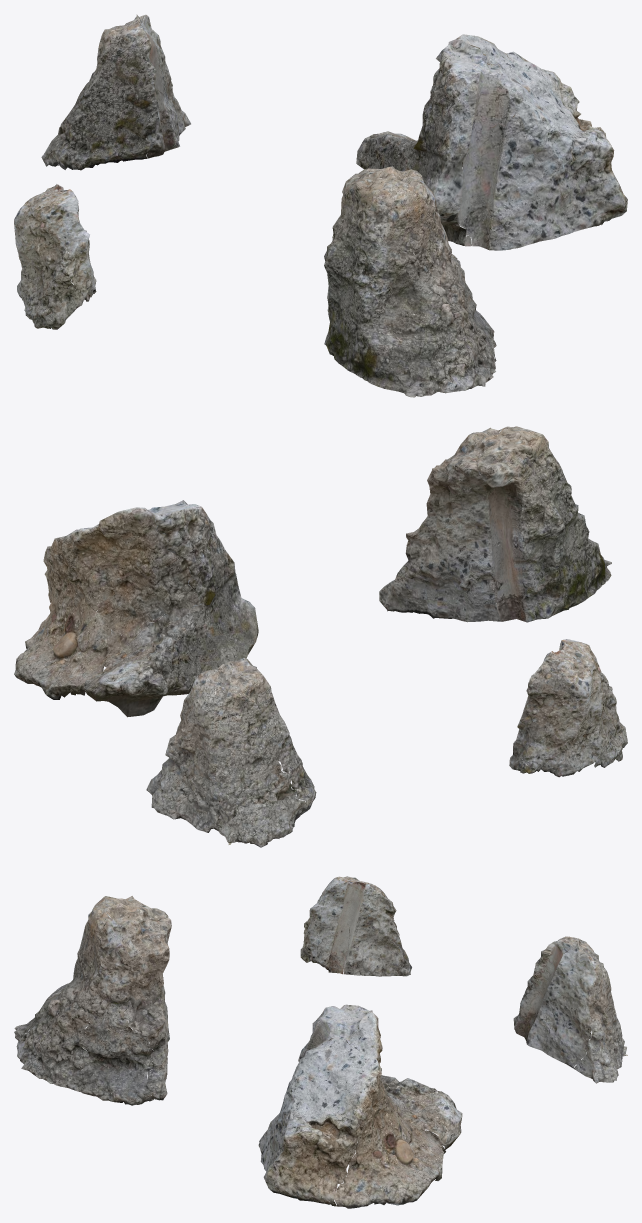
The model's file is concrete_chunks.glb.
The picture shows the model from 3 angles, top to bottom: view 1: azimuth 30°, elevation 25°; view 2: azimuth 150°, elevation 25°; view 3: azimuth 270°, elevation 25°; orthographic projection. The views are drawn at different scales.
Visible parts, largest first — view 1: concrete_chunks; view 2: concrete_chunks; view 3: concrete_chunks.
Part boxes in pixels (x1=…): concrete_chunks: x1=14, y1=14, x2=627, y2=397; concrete_chunks: x1=14, y1=426, x2=627, y2=847; concrete_chunks: x1=14, y1=876, x2=627, y2=1208.
Bounding box in the file's own units: 2.03 × 0.671 × 2.2.
Materials: 4 (4 with a texture image).
